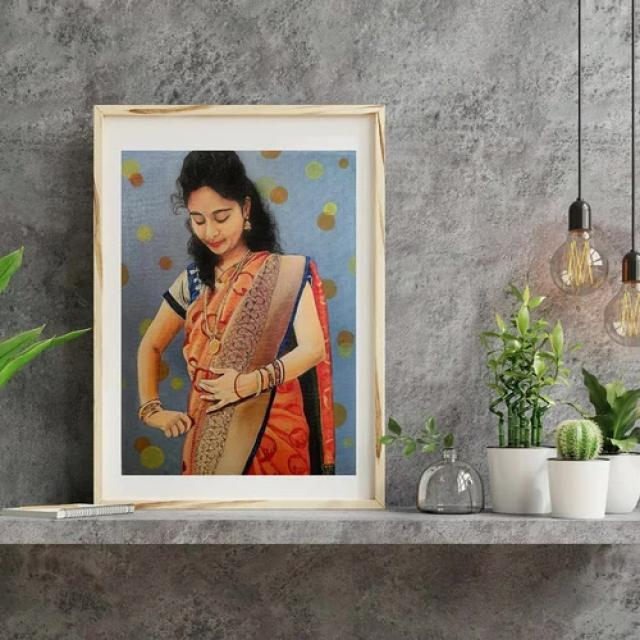painting: (94, 103, 383, 505)
